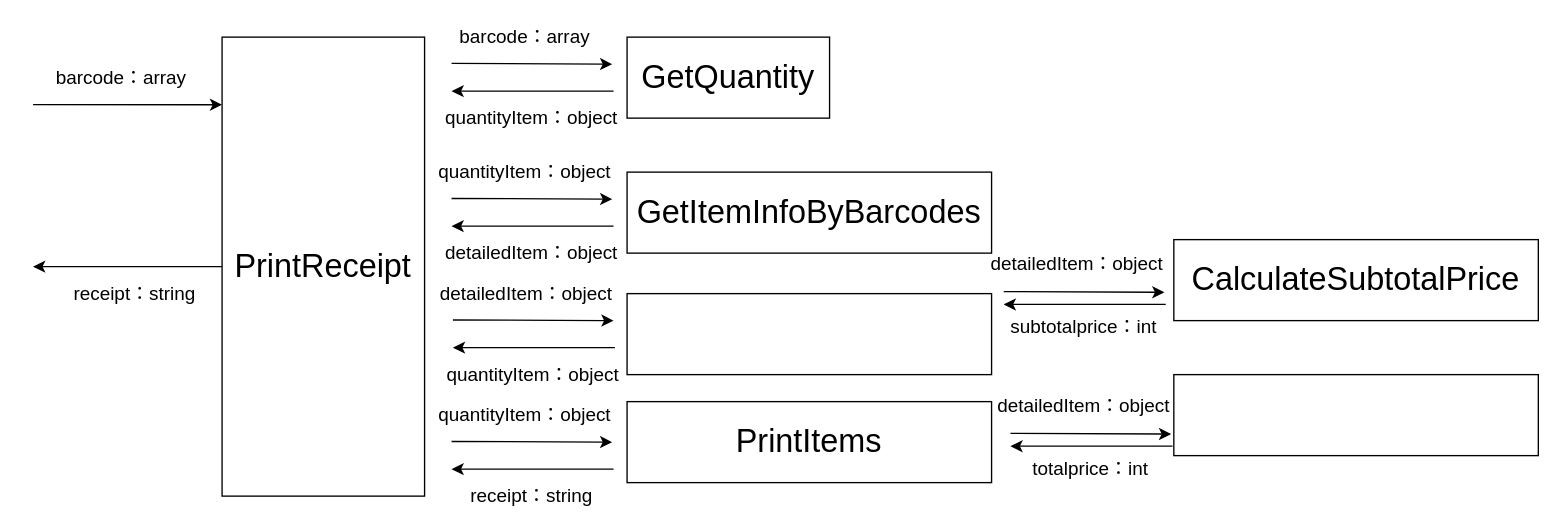
Some shapes in this 1562 by 532 pixel diagram are drawn without their labels. Here are the shapes that lost their labels. From the top down, the centre of each, then its label:
the point at 809,333: CalculateItems
the point at 1355,414: CalculateTotalPrice
